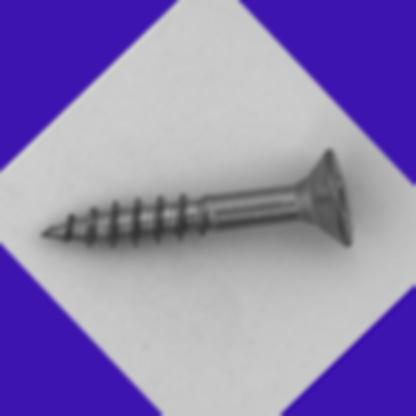metal: (40, 147, 353, 249)
